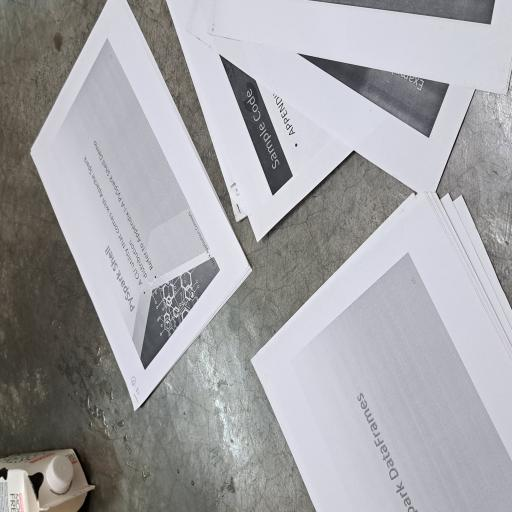drink carton: (0, 0, 48, 129)
paper: (78, 38, 384, 338), (203, 223, 384, 512), (0, 337, 238, 512)
plastic bottle cap: (14, 60, 44, 98)
